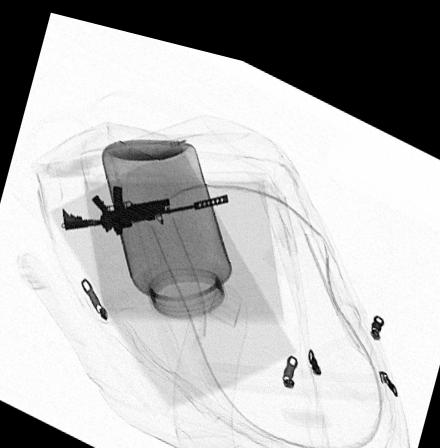Gun: (59, 178, 229, 227)
